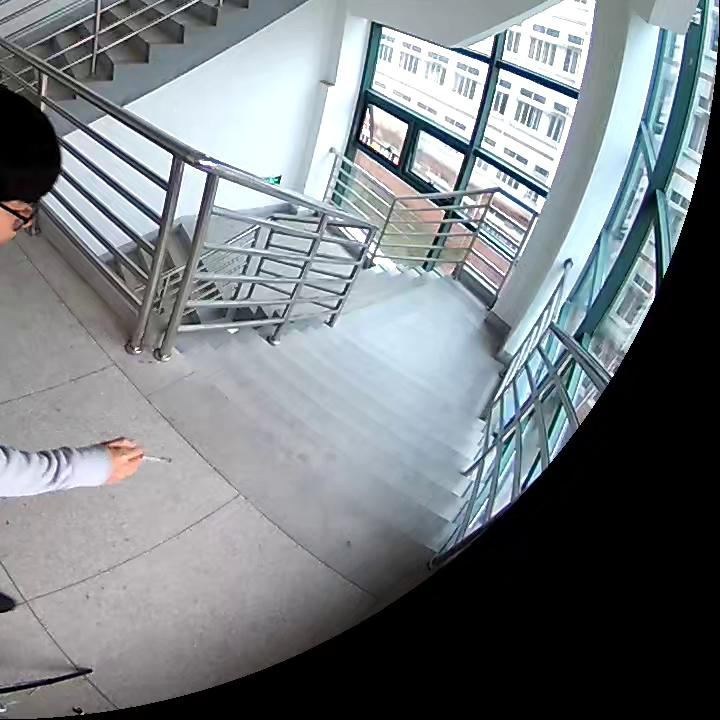handsmoke: (103, 437, 168, 483)
